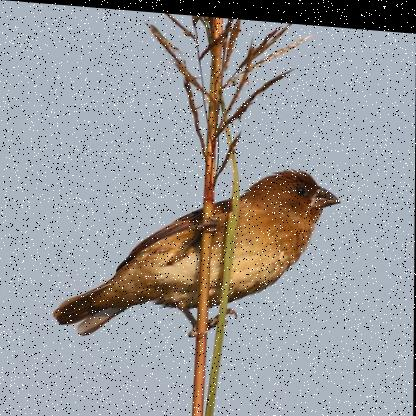Burung: (55, 150, 341, 351)
